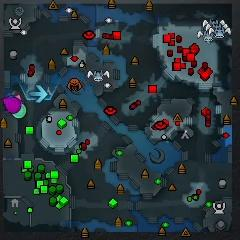p2: (12, 104, 26, 119)
p3: (2, 98, 21, 113)
x1: (14, 94, 22, 101)
x3: (29, 84, 48, 103)
